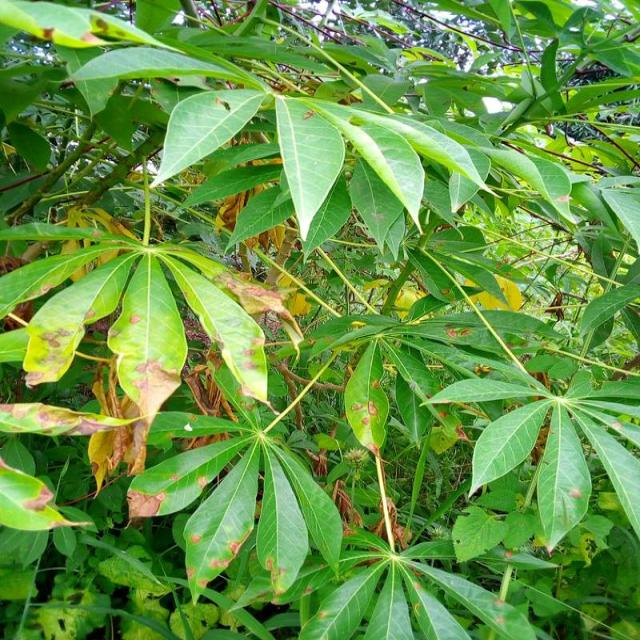cassava leaf: (0, 1, 638, 637), (274, 93, 348, 260), (148, 86, 264, 189)
